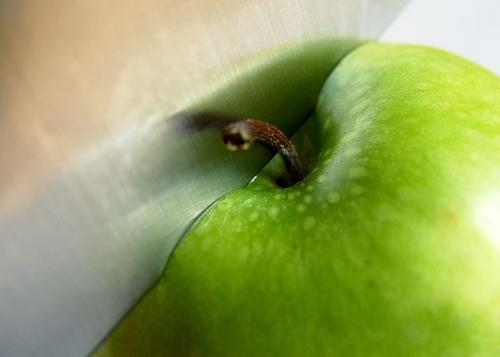apple: (89, 43, 499, 356)
